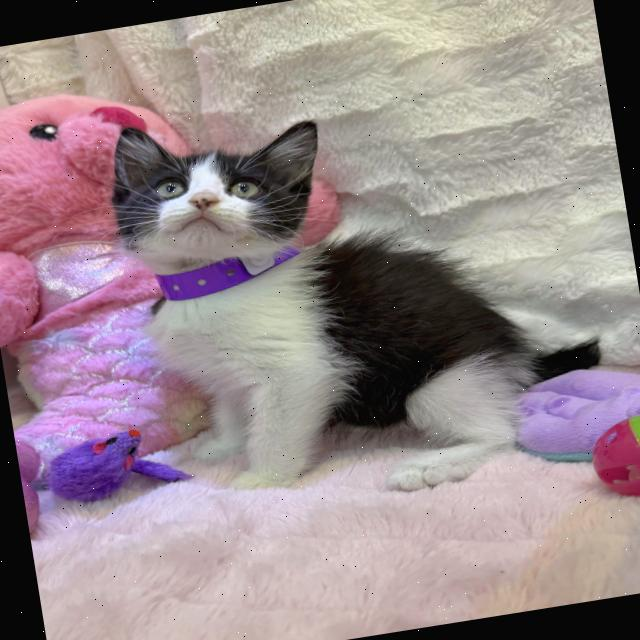manx_cat: (94, 87, 353, 293)
